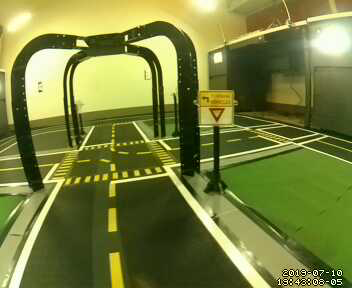Turn Yield: (198, 89, 234, 126)
